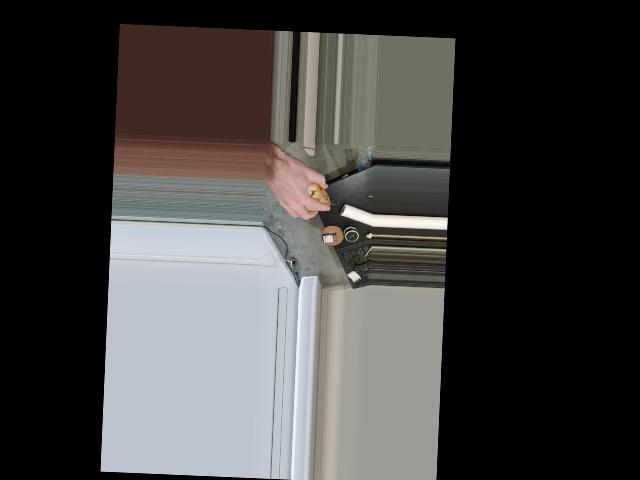onion: (288, 173, 333, 211)
